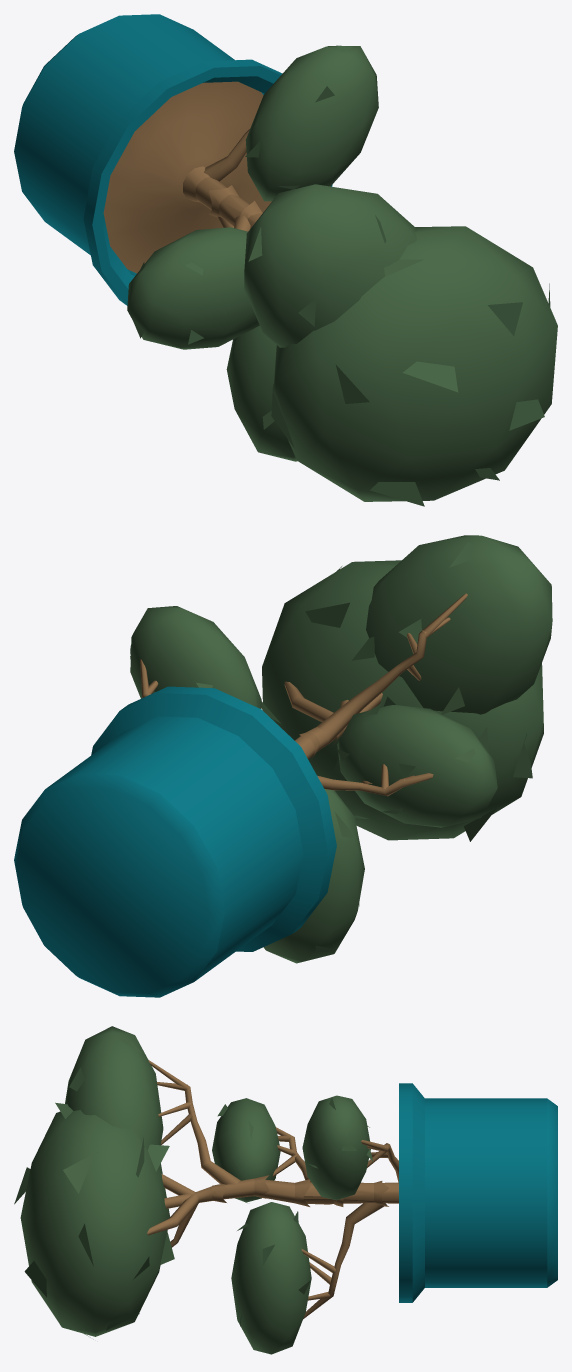
Rendered from plant_2.glb.
The picture shows the model from 3 angles, top to bottom: view 1: azimuth 30°, elevation 25°; view 2: azimuth 150°, elevation 25°; view 3: azimuth 270°, elevation 25°; orthographic projection. The views are drawn at different scales.
Parts seen in each view (by area): view 1: plant-2; view 2: plant-2; view 3: plant-2.
Part boxes in pixels (x1=…): plant-2: x1=14, y1=14, x2=557, y2=506; plant-2: x1=14, y1=535, x2=552, y2=997; plant-2: x1=14, y1=1026, x2=557, y2=1354.
Size of the model in its own units: 0.848 by 0.91 by 1.54.
